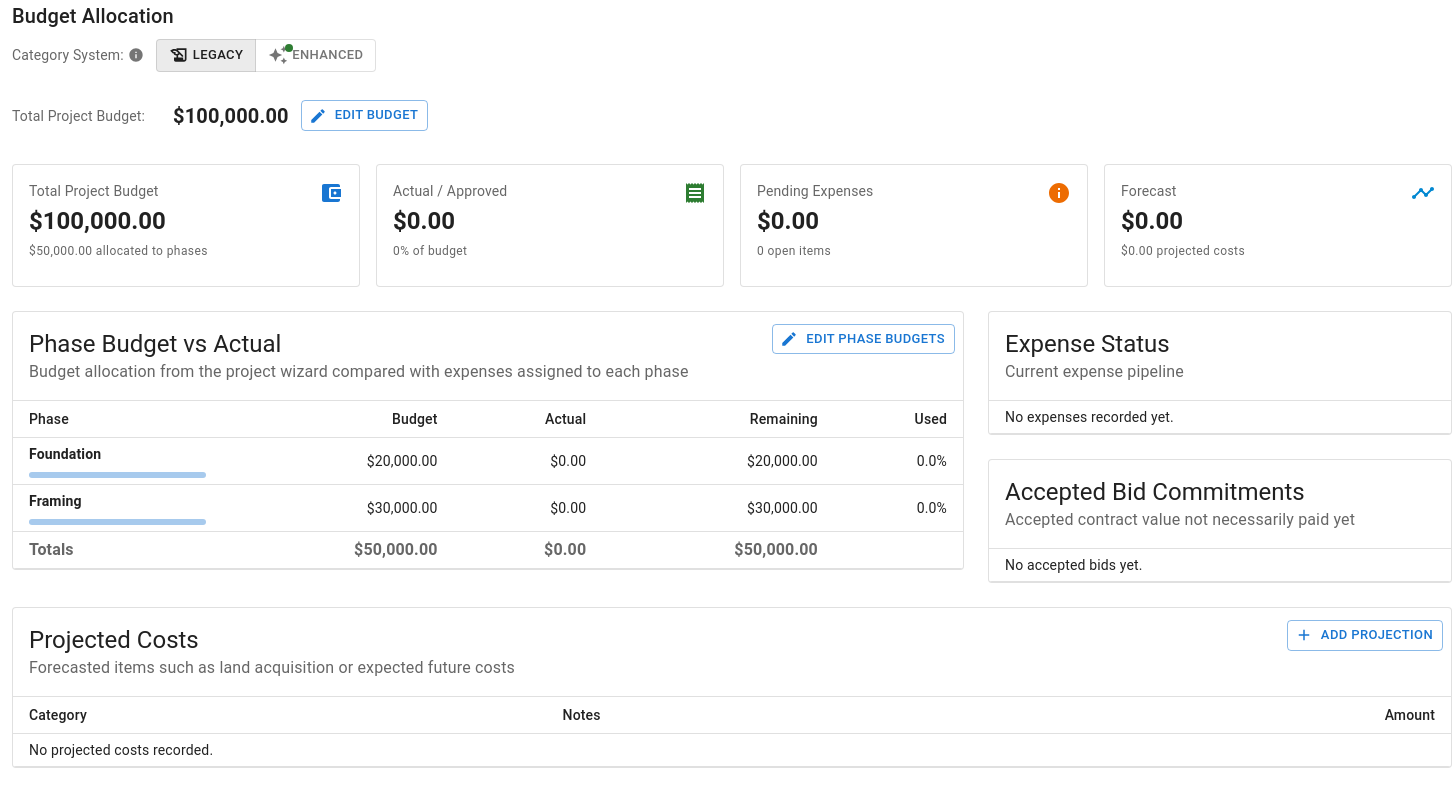
Test case: BudgetAllocationTracker › lets users update the total project budget from the budget page
Expected: the heading "$100,000.00" next to "Total Project Budget:" is shown, [173,104,289,128]
Click the button "Edit Budget" at (364, 116), box [301,100,428,131]
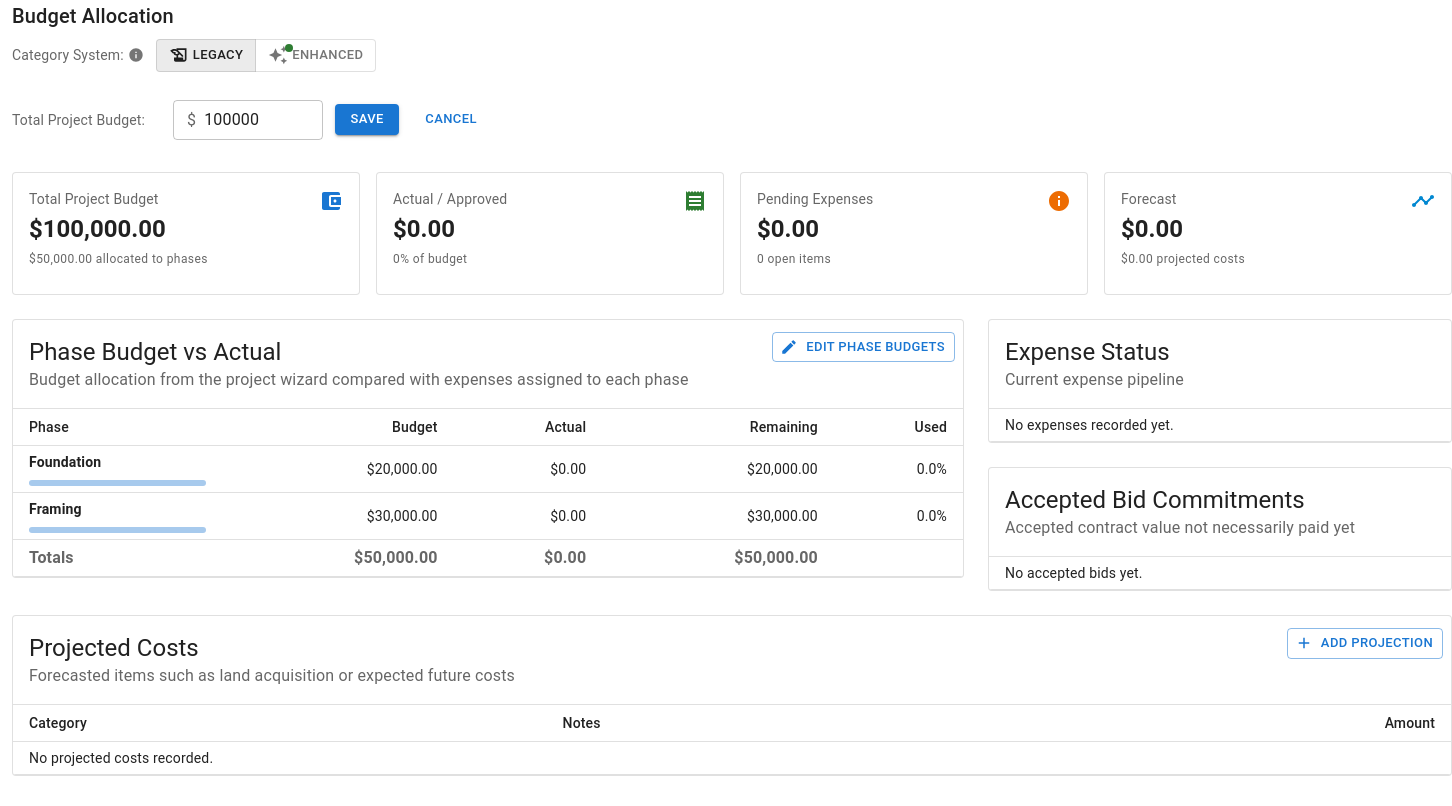
Replace the text in the number field with "125000" at (264, 120), box [204,100,323,140]
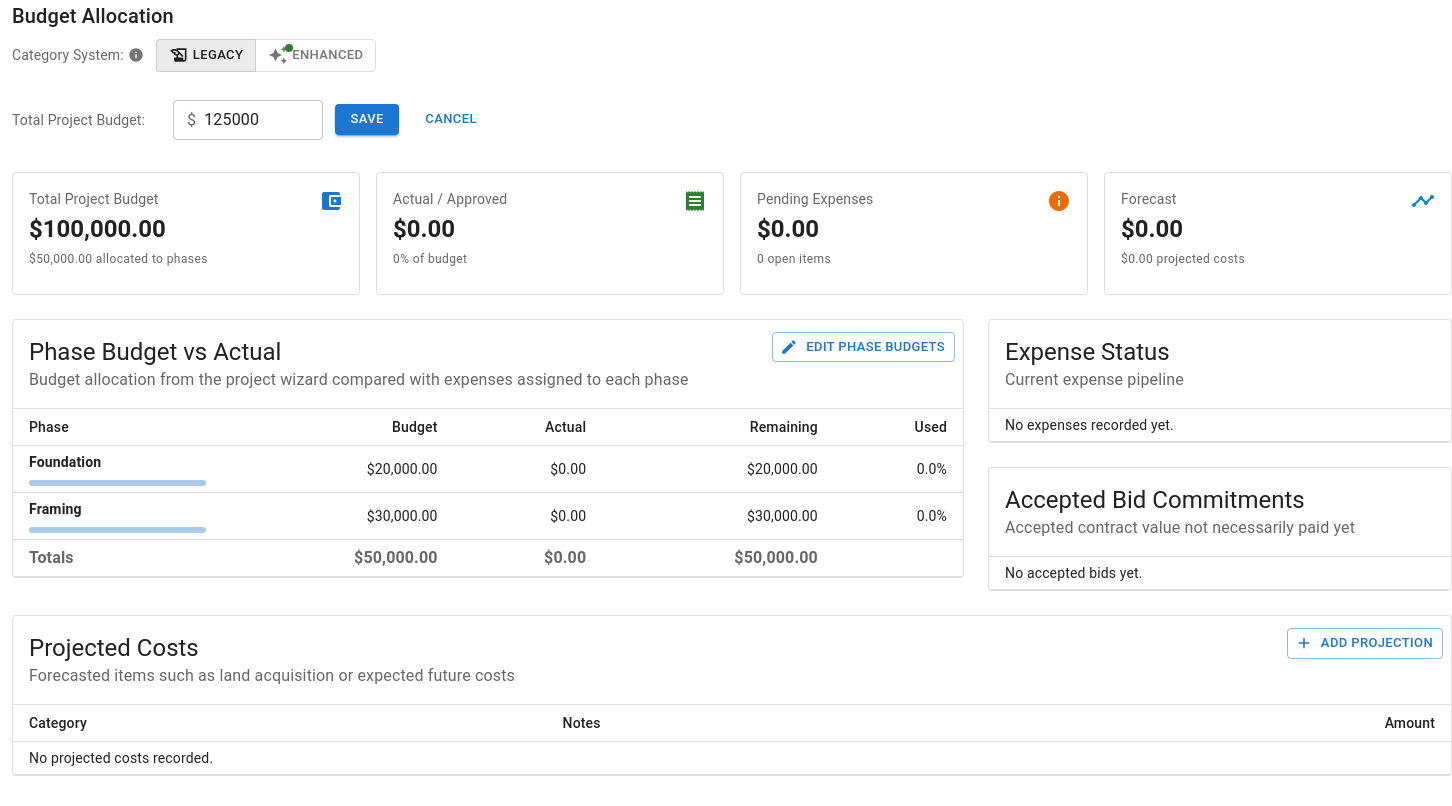
Click the button "Save" at (367, 120), box [335,104,399,135]
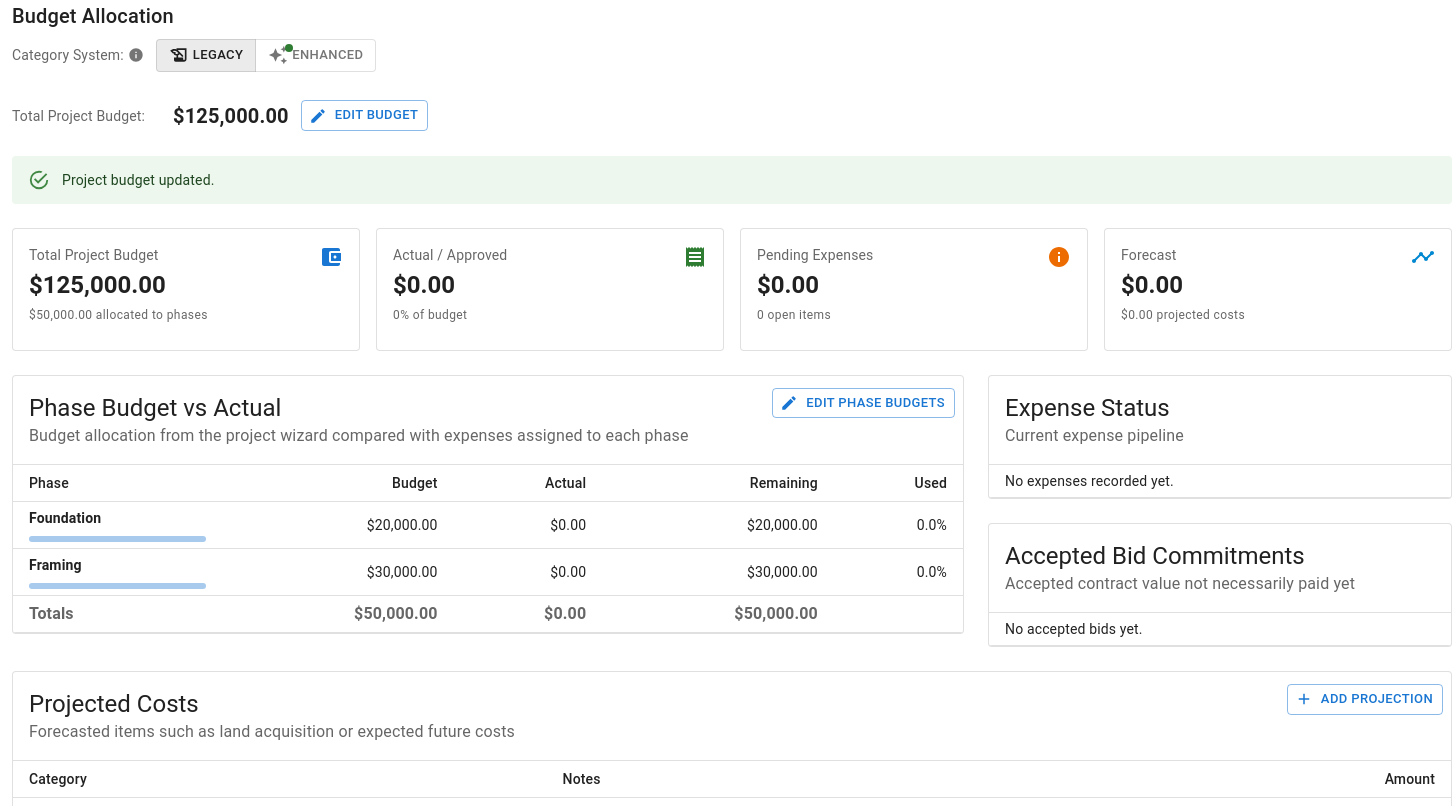
Expected: the heading "$125,000.00" next to "Total Project Budget:" is shown, [173,104,289,128]
